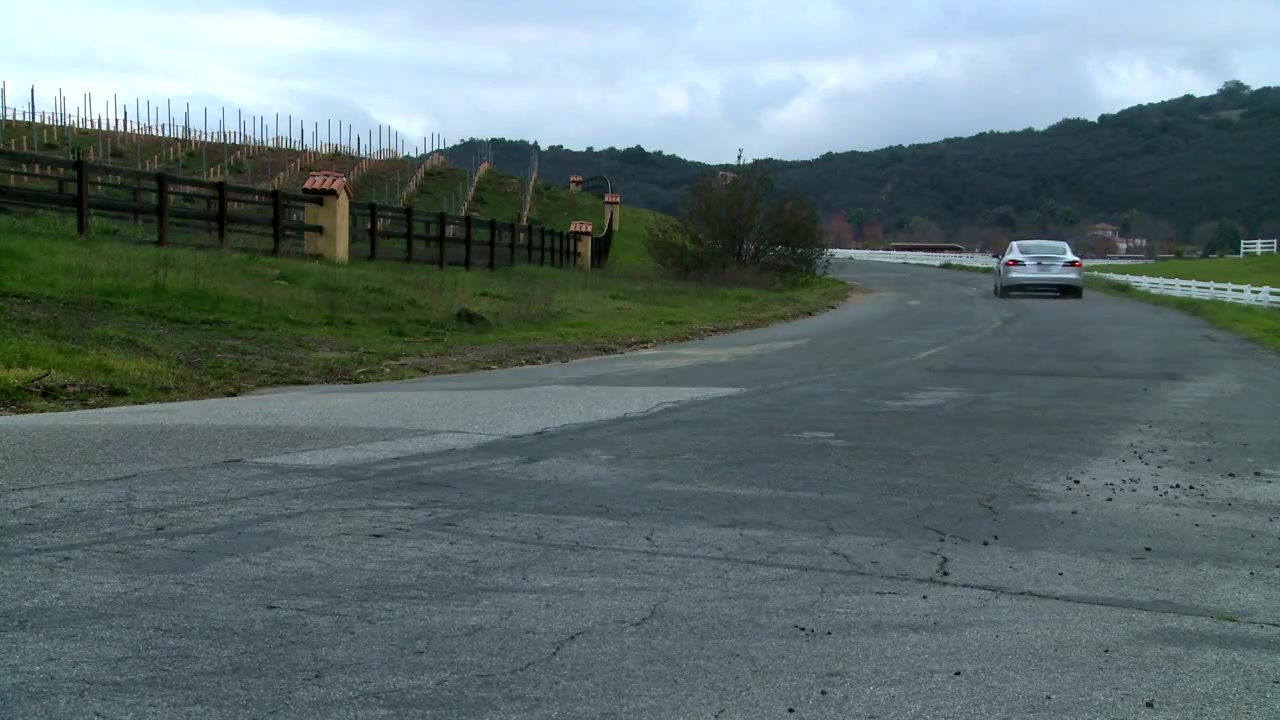car: (993, 237, 1087, 300)
